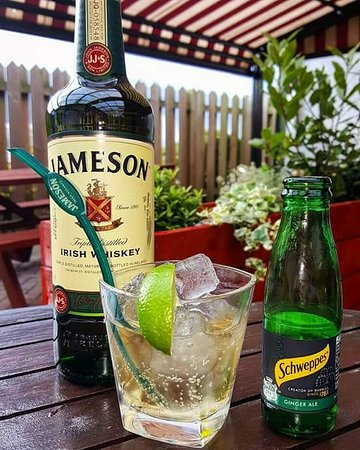Jameson: (41, 1, 159, 387)
